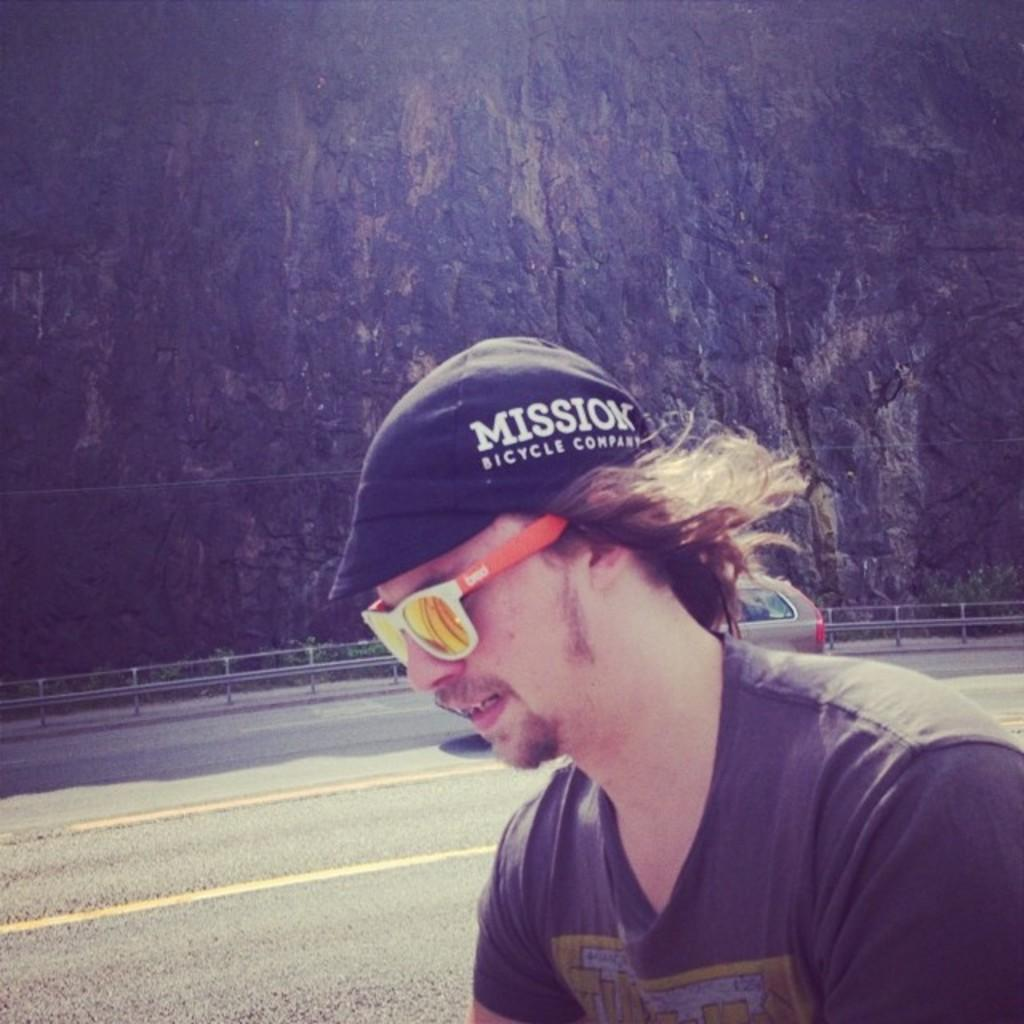Hat: (330, 329, 656, 598)
